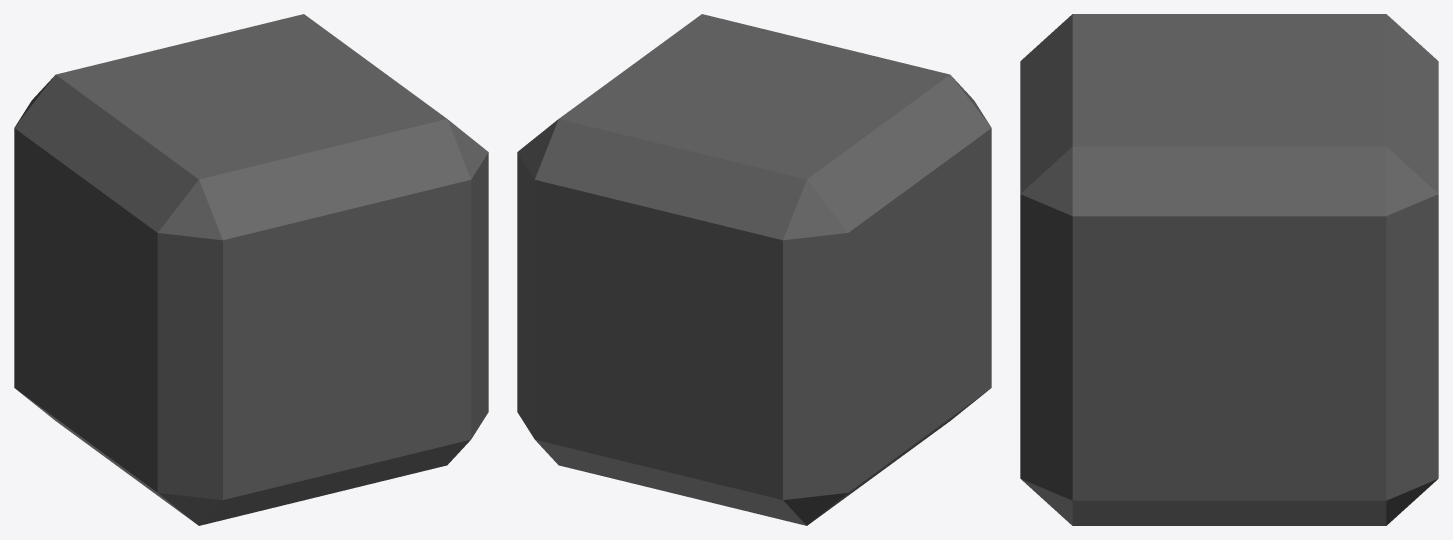
The model's file is chamfered_cube.fbx.
3 renders of one model, left to right at view 1: azimuth 30°, elevation 25°; view 2: azimuth 150°, elevation 25°; view 3: azimuth 270°, elevation 25°, orthographic. The views are drawn at different scales.
Parts seen in each view (by area): view 1: defaultobject; view 2: defaultobject; view 3: defaultobject.
Boxes of the visible parts, x1,y1,x2,y2 form: defaultobject: (14,14,488,525); defaultobject: (517,14,991,525); defaultobject: (1020,14,1438,525).
Size of the model in its own units: 2 by 2 by 2.
1 material, 1 textured.
